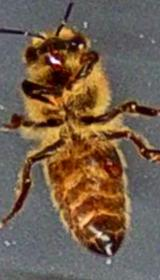varroa_mite: (100, 146, 124, 181)
